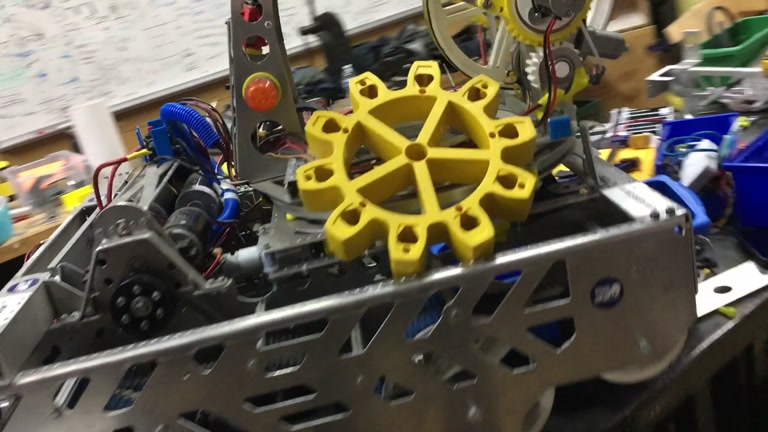gear: (294, 60, 540, 278)
